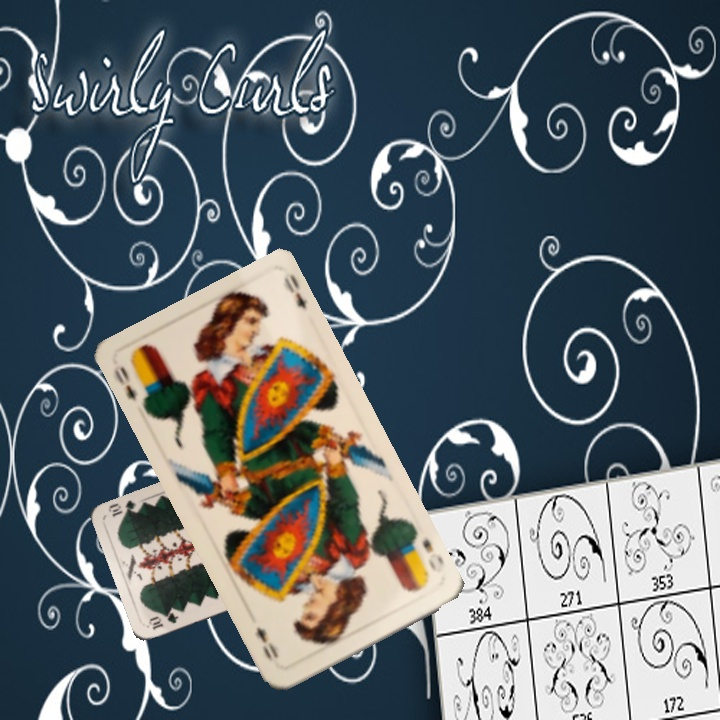EO: (109, 361, 140, 404), (418, 534, 447, 576)
G10: (144, 608, 181, 632)
